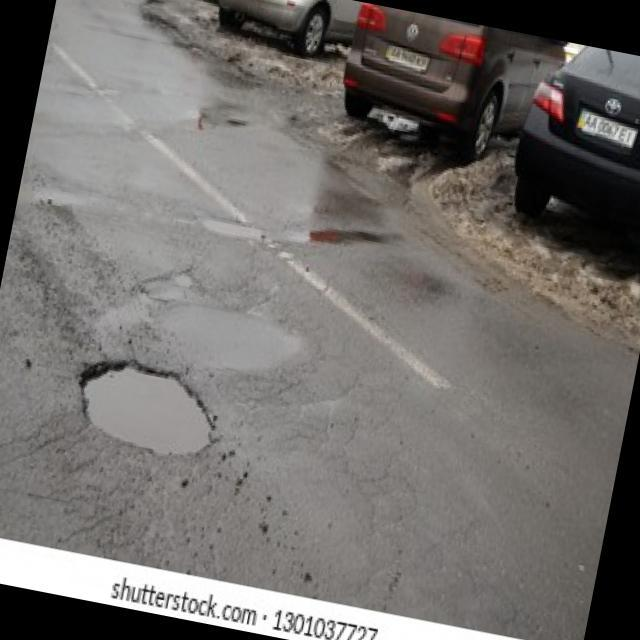Pothole: (68, 350, 226, 463)
